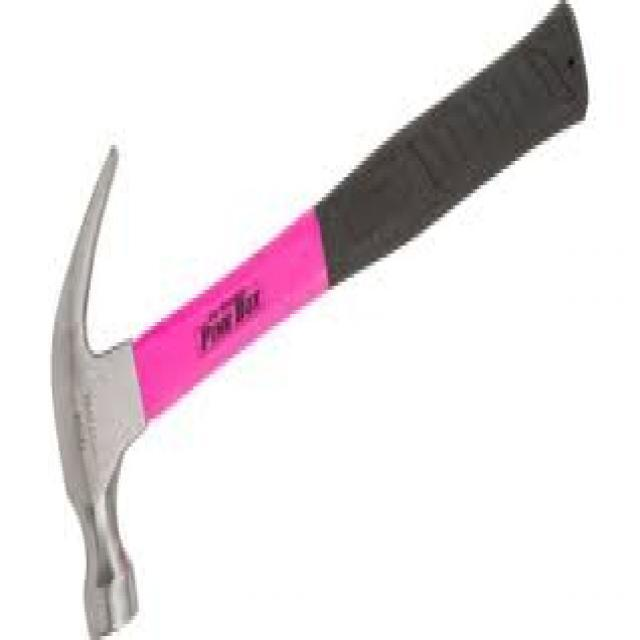hammer: (34, 0, 599, 640)
